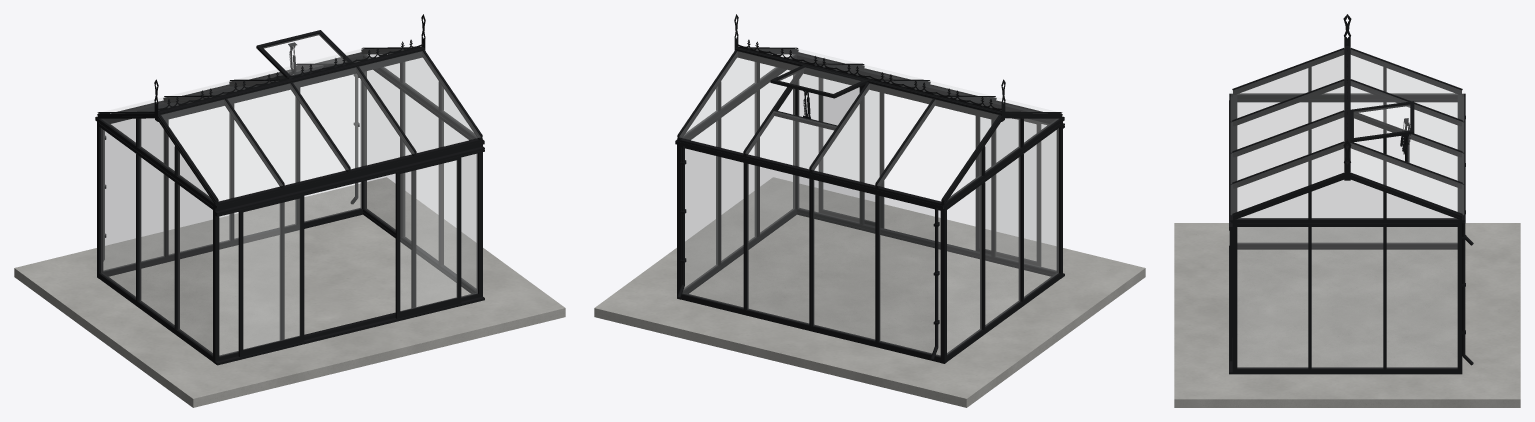
Rendered from sg-rect-7-9-10-2-decor.glb.
3 renders of one model, left to right at view 1: azimuth 30°, elevation 25°; view 2: azimuth 150°, elevation 25°; view 3: azimuth 270°, elevation 25°, orthographic. The views are drawn at different scales.
Visible parts, largest first — view 1: scandiglas-rect-7-9-10-2-decor; view 2: scandiglas-rect-7-9-10-2-decor; view 3: scandiglas-rect-7-9-10-2-decor.
Boxes of the visible parts, x1,y1,x2,y2 form: scandiglas-rect-7-9-10-2-decor: [14, 14, 565, 407]; scandiglas-rect-7-9-10-2-decor: [594, 14, 1145, 407]; scandiglas-rect-7-9-10-2-decor: [1174, 14, 1520, 407].
Size of the model in its own units: 4.38 by 2.81 by 3.64.
Materials: 5 (1 with a texture image).
